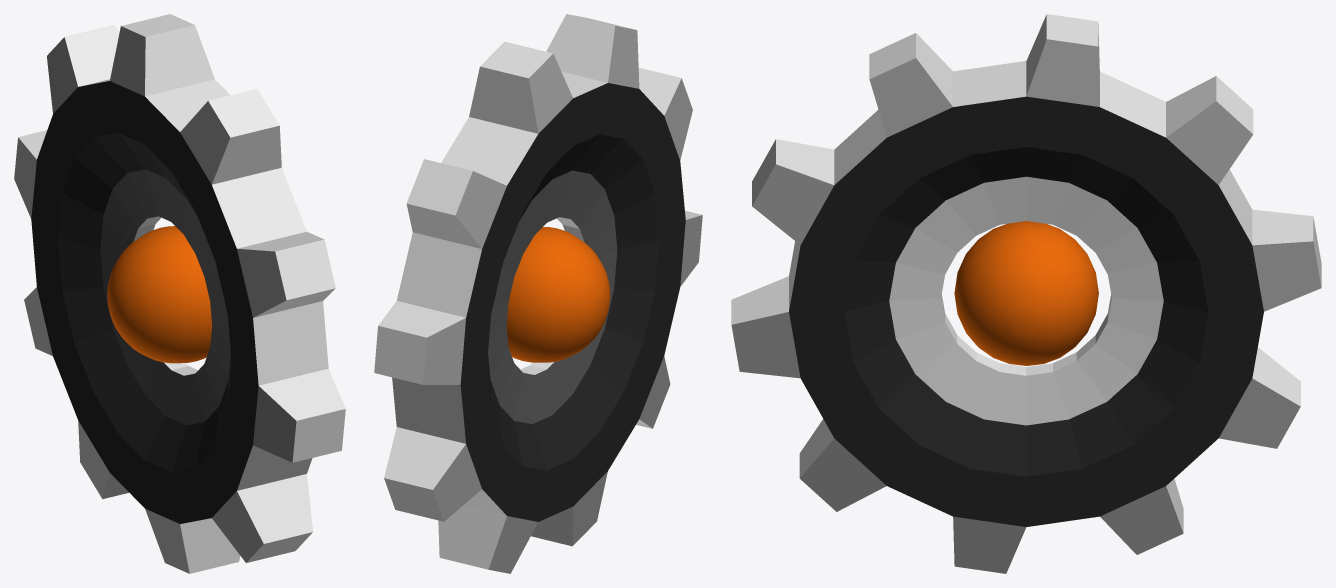
File: GearSide.fbx
3 renders of one model, left to right at view 1: azimuth 30°, elevation 25°; view 2: azimuth 150°, elevation 25°; view 3: azimuth 270°, elevation 25°, orthographic. The views are drawn at different scales.
Visible parts, largest first — view 1: Gear, CentrePieceSphere1; view 2: Gear, CentrePieceSphere1; view 3: Gear, CentrePieceSphere1.
Boxes of the visible parts, box(x1,y1,x2,y2) form: Gear: box(14, 14, 345, 573); CentrePieceSphere1: box(107, 226, 211, 363); Gear: box(374, 14, 702, 573); CentrePieceSphere1: box(506, 227, 610, 362); Gear: box(731, 14, 1321, 573); CentrePieceSphere1: box(954, 221, 1098, 365).
Size of the model in its own units: 1.48 by 5.82 by 5.82.
